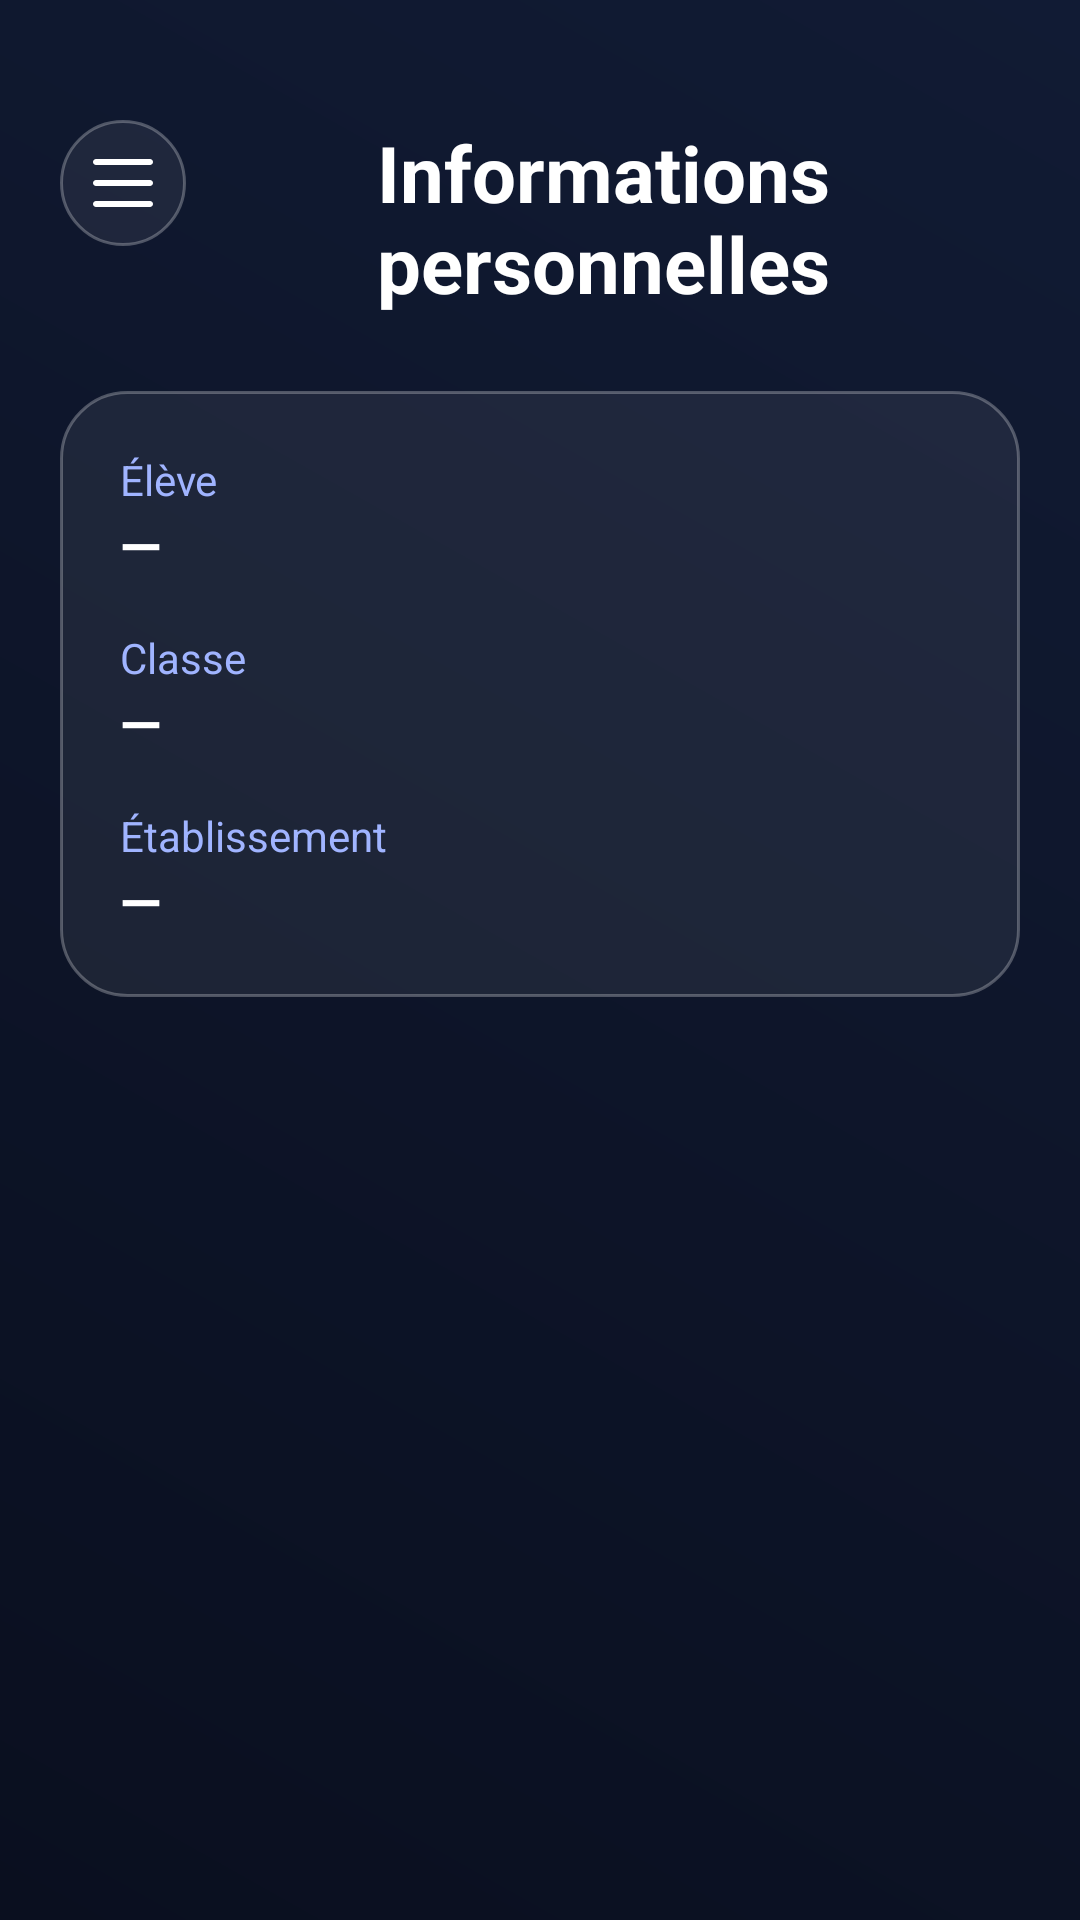

Icon click points for this 1080w x 1920h phone screenshot, format (x=x, y=y):
menu: (x=123, y=183)
